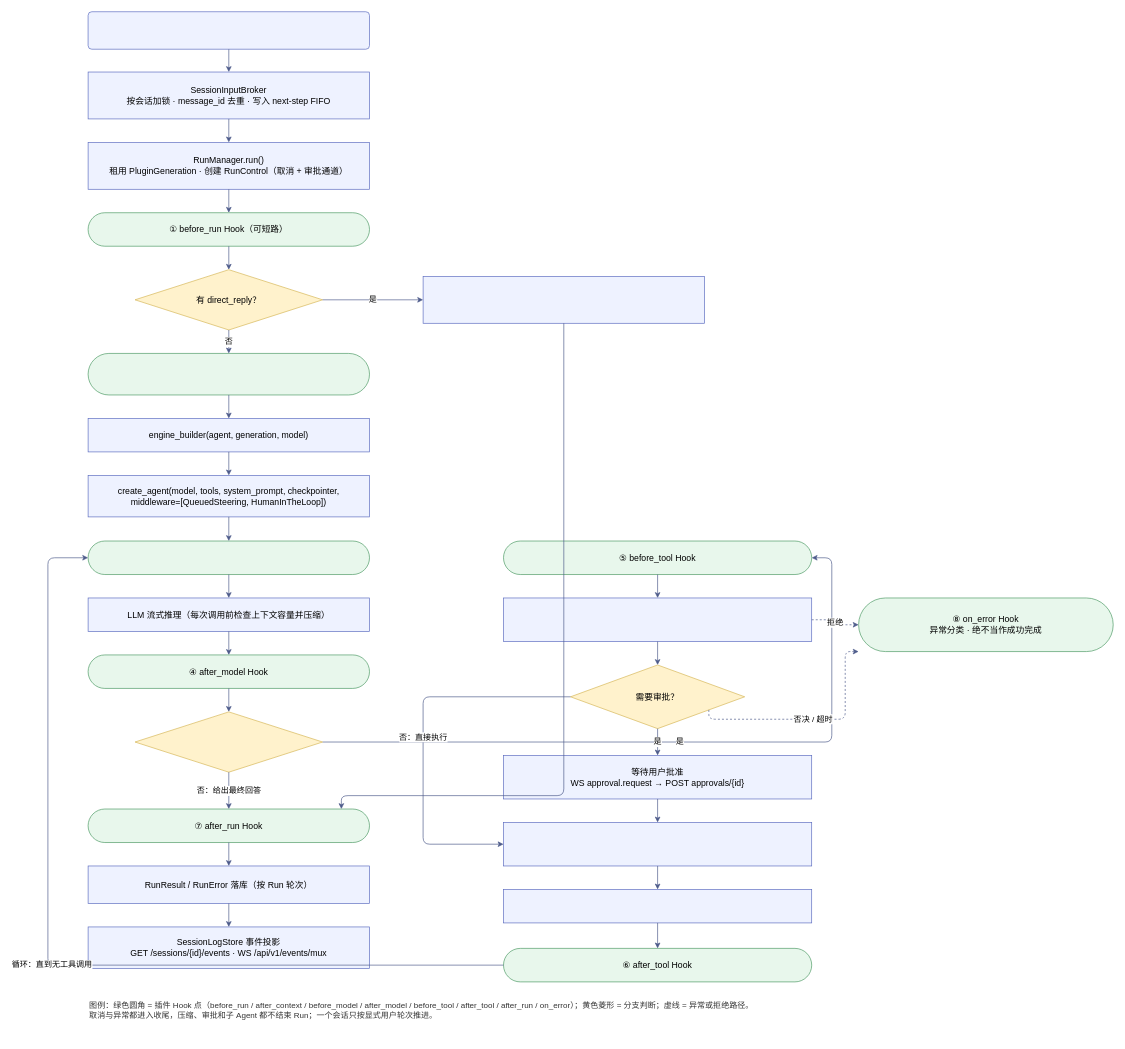
This 1125x1049 diagram has some shape labels left out. The centre of each missing label's shape, as x and y in pixels:
"POST /api/v1/sessions/{session_id}/prompt" goes at (228,30).
"② after_context Hook 与 before_run 的 ContextPatch 合并为 prompt" goes at (228,374).
"③ before_model Hook（DLP 改写模型输入）" goes at (228,557).
"安全与审批检查 caller 校验 · 权限 · DLP · 网络策略" goes at (657,619).
"工具执行 内置 / 目录工具 / MCP / 子 Agent" goes at (657,844).
"有 Tool 调用？" goes at (228,741).
"直接回复 写入会话历史 + 发布 token 事件" goes at (563,299).
"结果裁剪（回到上下文预算内）" goes at (657,906).
